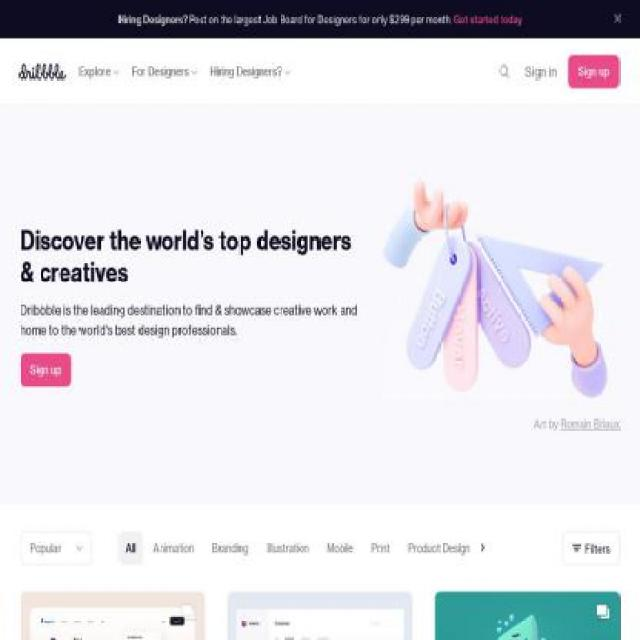button: (20, 592, 206, 639), (227, 592, 413, 639), (435, 592, 620, 639), (19, 38, 66, 105), (400, 532, 478, 566), (20, 532, 92, 566), (481, 532, 545, 566), (548, 532, 612, 566), (258, 532, 317, 566), (562, 532, 621, 566), (145, 532, 201, 566), (19, 353, 72, 387), (568, 54, 620, 88), (204, 532, 256, 566), (209, 62, 291, 82), (319, 532, 361, 566), (132, 62, 198, 82), (362, 532, 398, 566), (470, 532, 495, 566), (78, 62, 120, 82), (119, 532, 143, 566), (525, 62, 557, 82), (608, 5, 628, 32)
